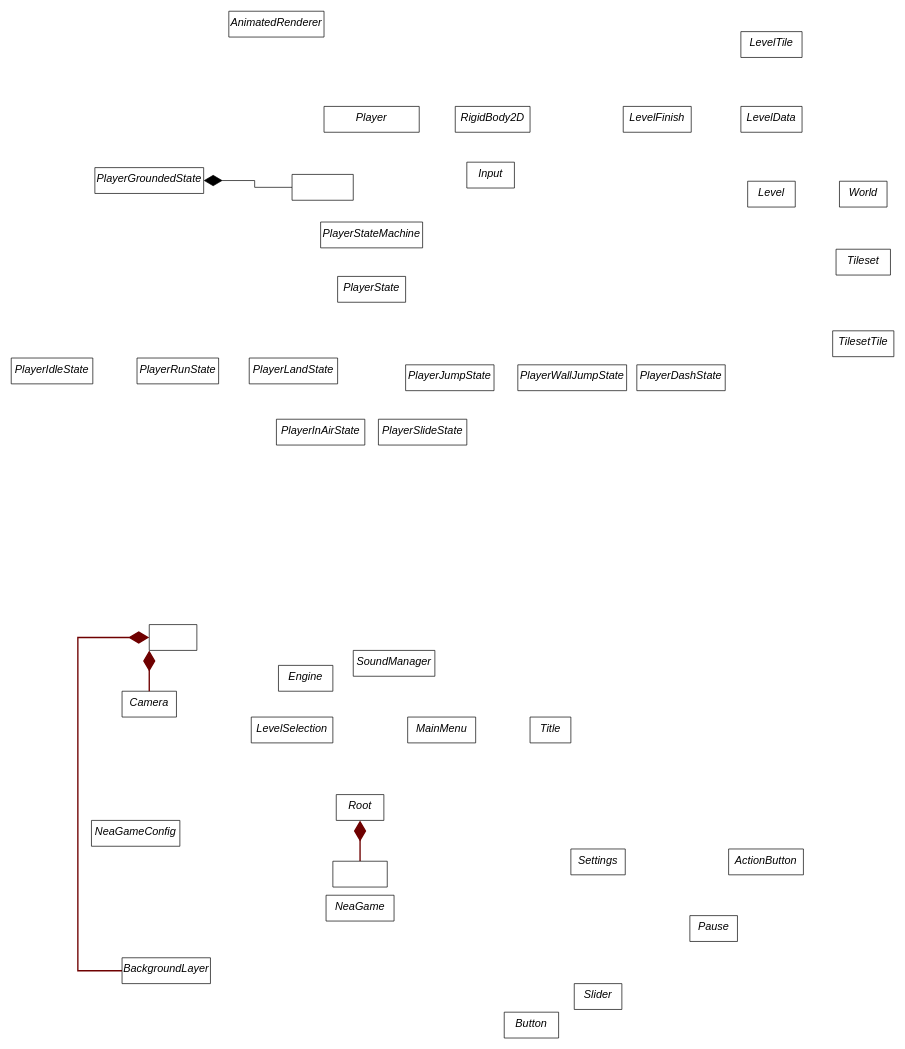
This 905x1049 diagram has some shape labels left out. The shapes that lost their labels are listed below. From the top down, each one's box as (x1, y1, x2, y2) in pixels, then its label:
(291, 174, 353, 200): Vector2D
(149, 624, 197, 650): Game
(332, 861, 387, 887): Window
